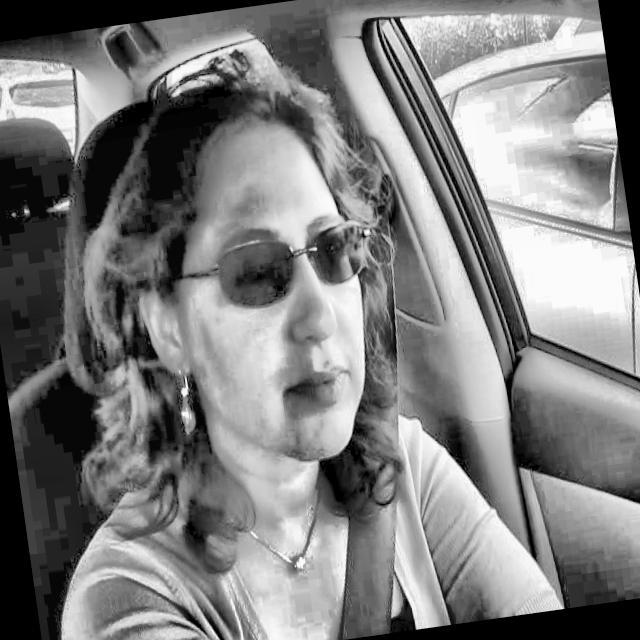closed_mouth: (273, 355, 373, 425)
